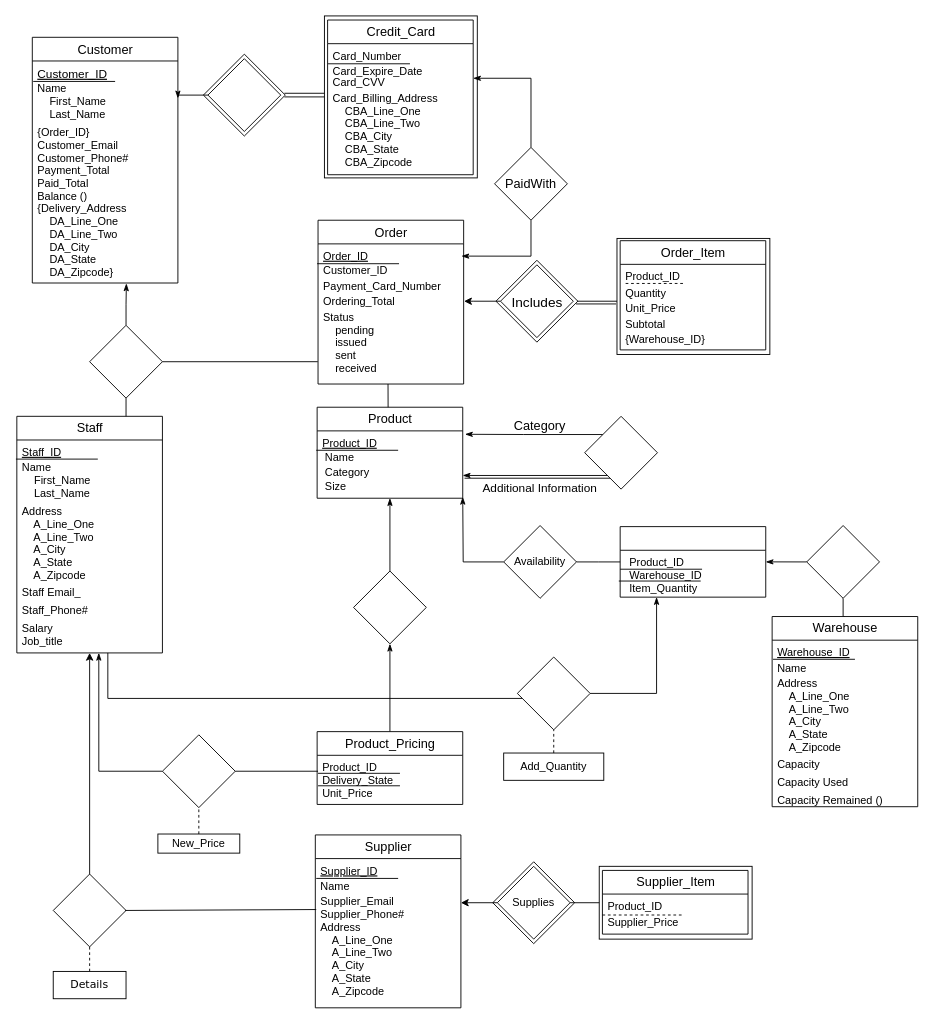
The diagram is 934 pixels wide and 1026 high, and some of its shapes have lost their labels. Here are the shapes that lost their labels. From the top down, the centre of each, then its label:
At point 244,94: "Owns".
At point 125,361: "Ordering".
At point 620,452: "Label".
At point 692,561: "Stock".
At point 843,561: "Stores".
At point 389,607: "GetPrice".
At point 553,693: "addStock".
At point 198,771: "Pricing".
At point 89,910: "Request".
